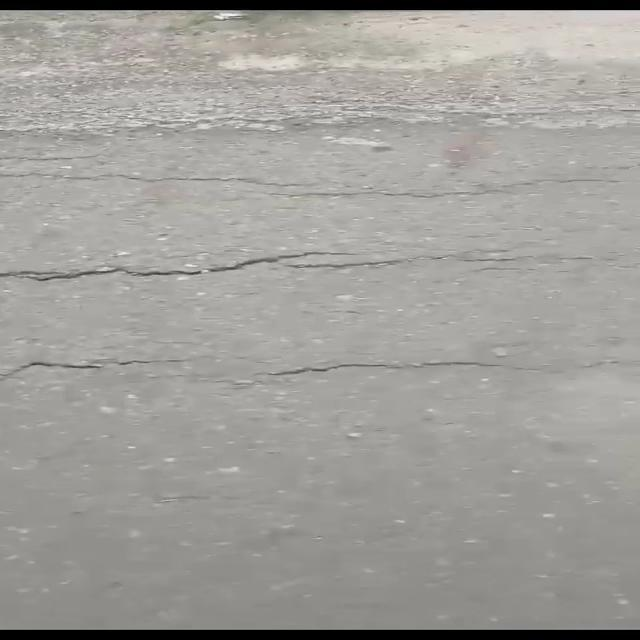Melintang: (0, 237, 605, 298), (270, 329, 630, 401), (0, 345, 188, 386)
